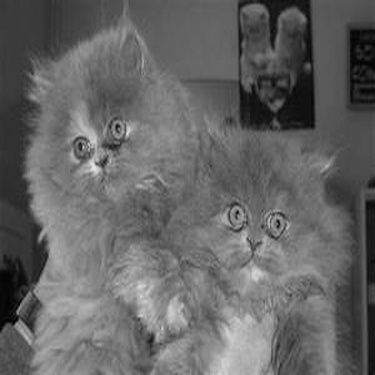cat: (30, 21, 201, 368), (154, 123, 343, 372)
